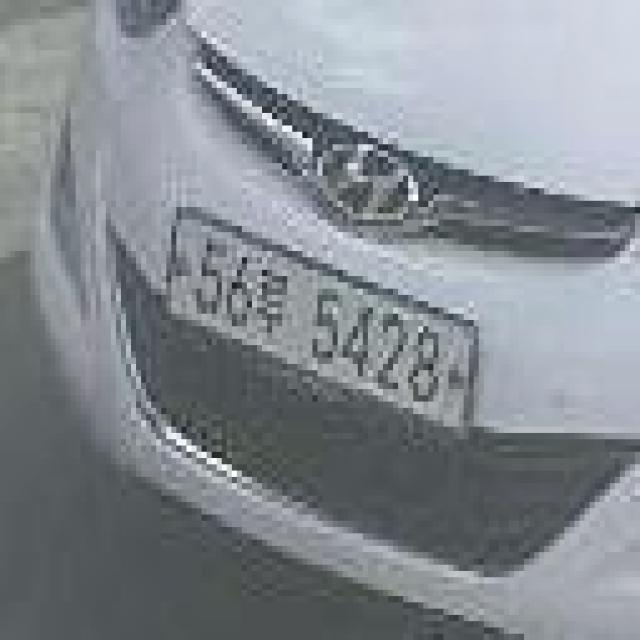illegal_plate: (162, 200, 479, 448)
